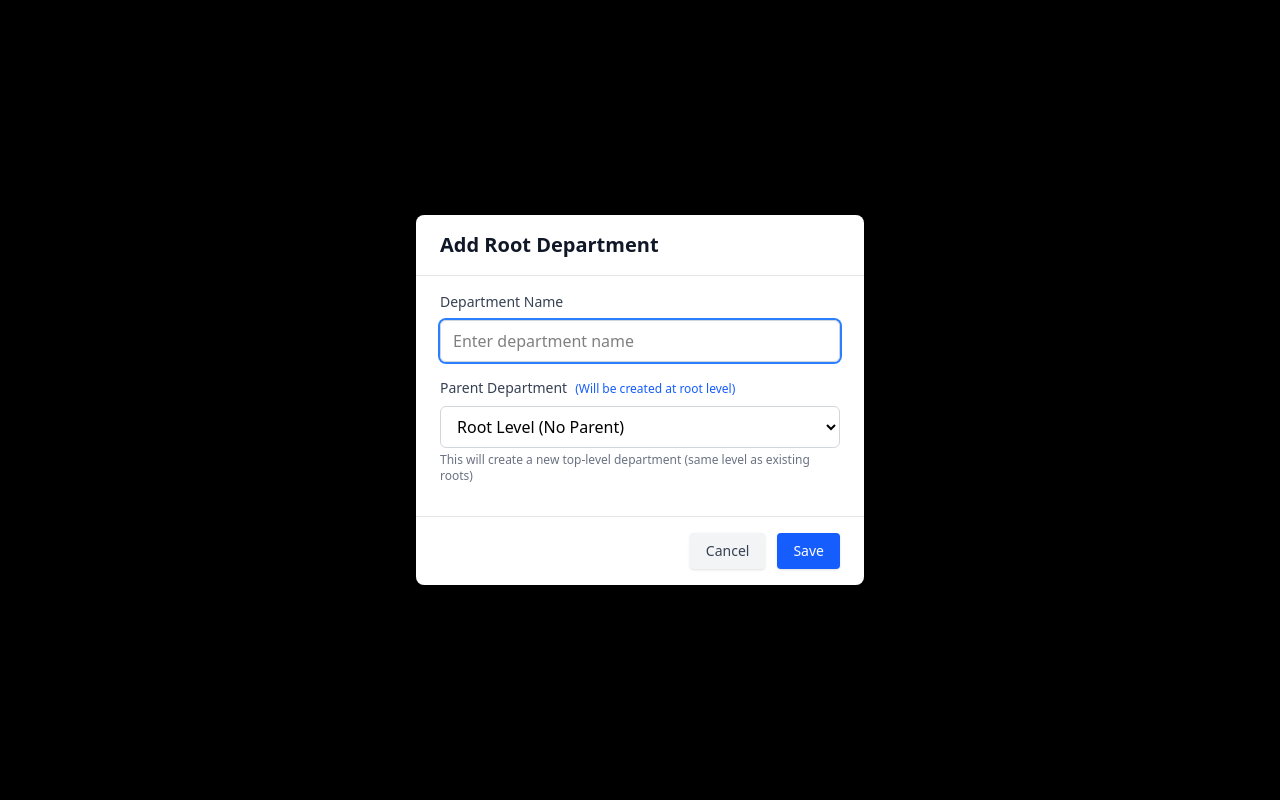
Test: DepartmentManagementModal › interactions › should disable buttons while submitting
Type "New Dept" into the field labelled "Department Name" at (640, 341), box [440,320,840,362]
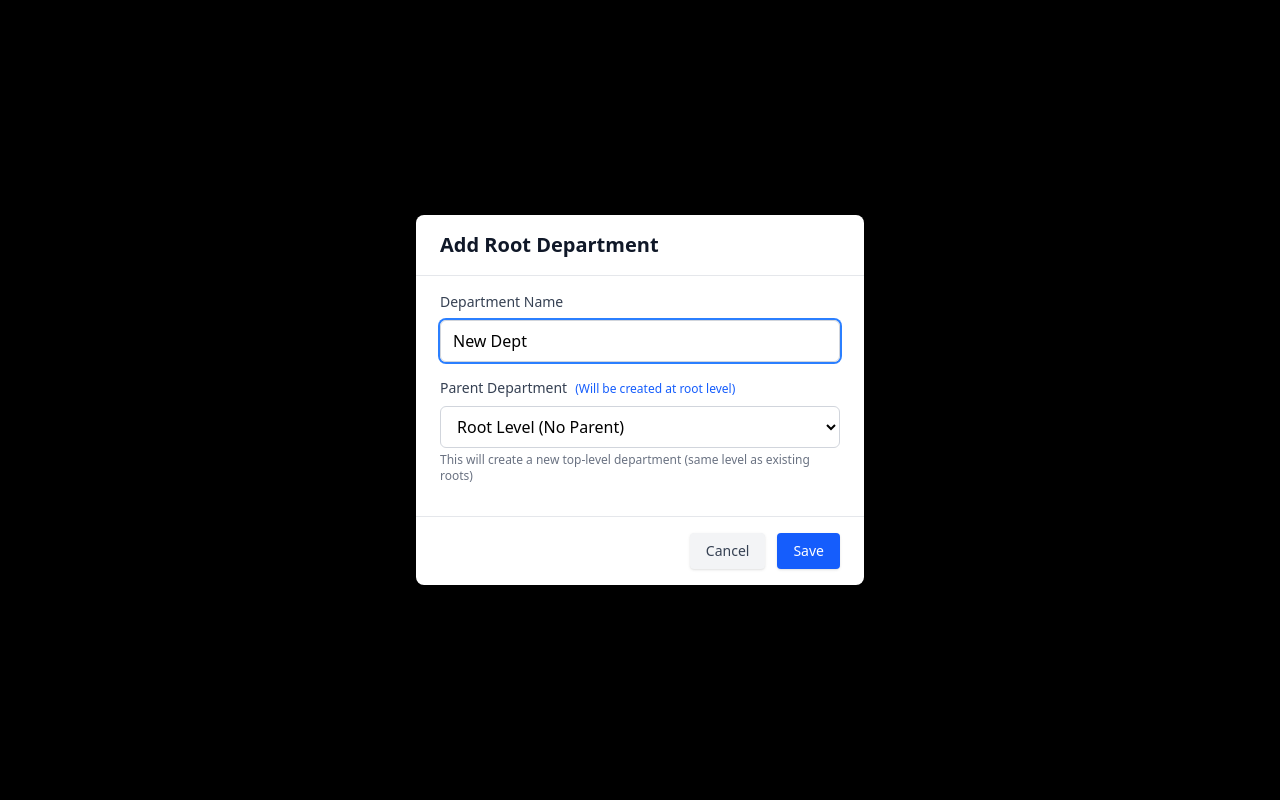
Click the button "Save" at (809, 551), box [777,533,840,569]
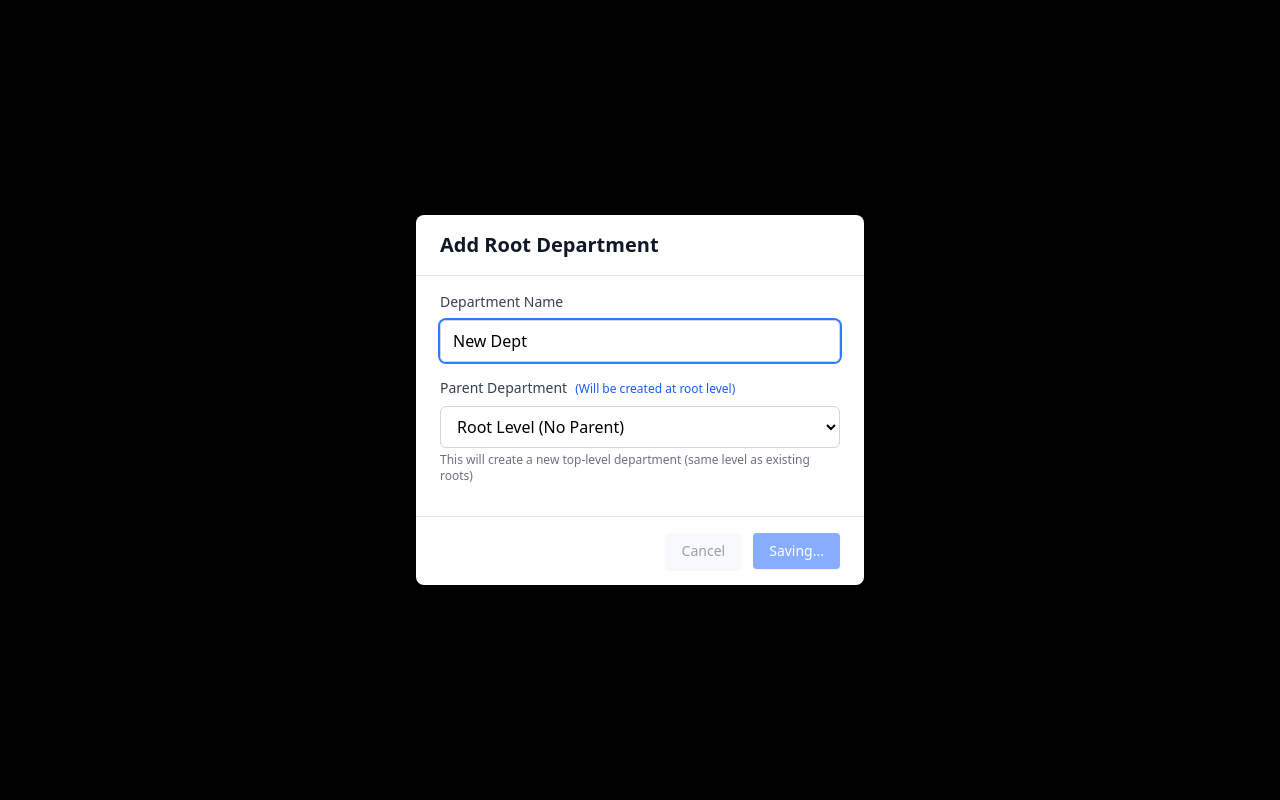
Expected: the button "Cancel" is disabled, [666,533,741,569]
Expected: the button "Saving..." is disabled, [753,533,840,569]
